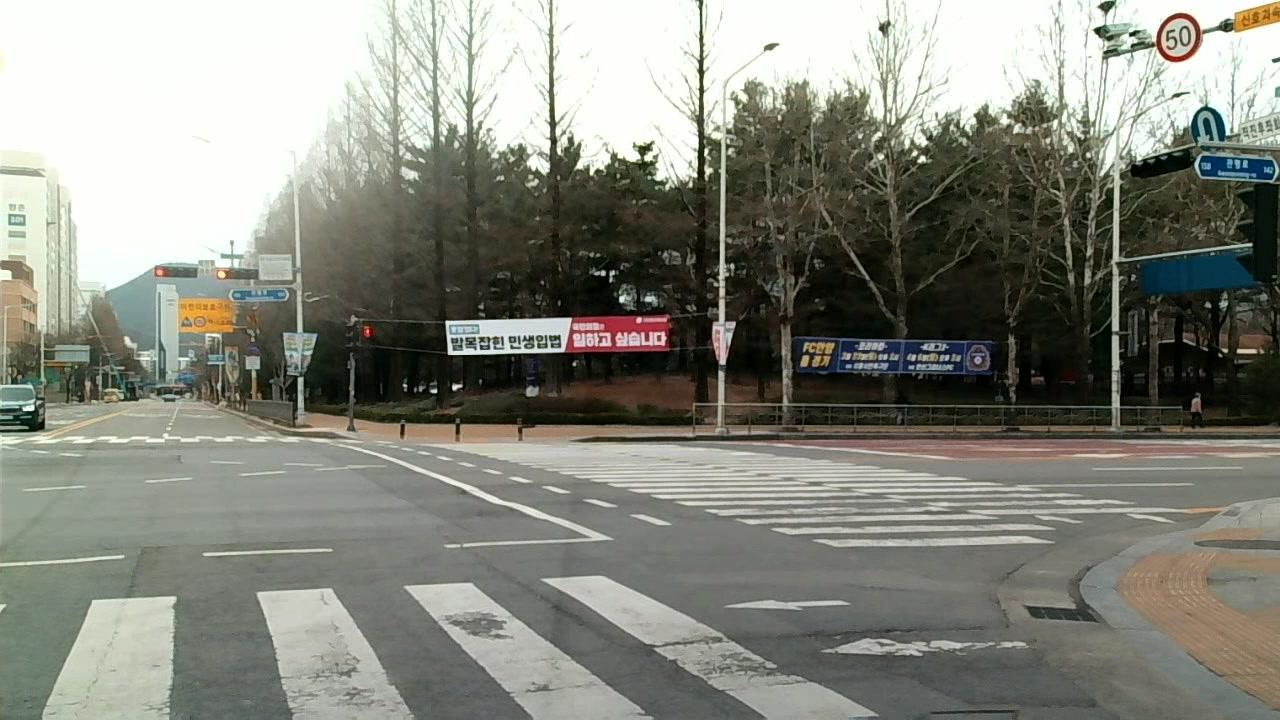banner: (791, 333, 1005, 386), (439, 316, 676, 350)
erosion: (74, 656, 564, 714), (633, 642, 1041, 688), (430, 604, 513, 646)
hcrack: (633, 624, 994, 646)
vcrack: (442, 536, 548, 601), (546, 595, 620, 651)
